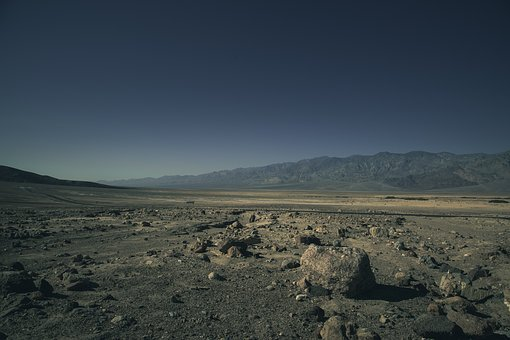ground: (10, 181, 505, 340)
mountain: (239, 156, 510, 195)
sky: (3, 1, 510, 153)
